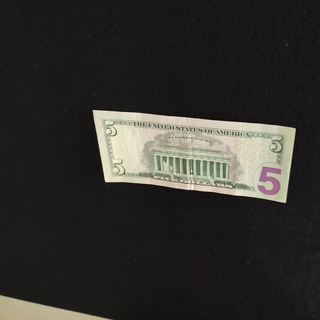5USDBack: (91, 109, 296, 204)
